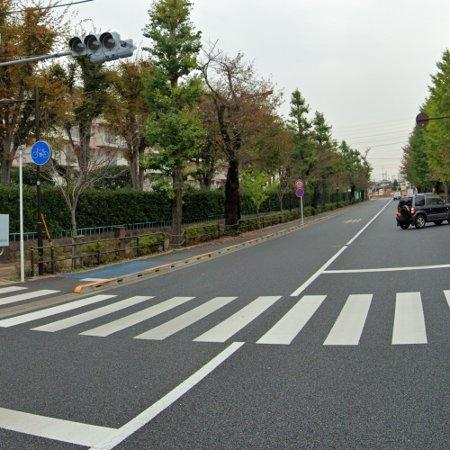crosswalks: (0, 282, 450, 349)
